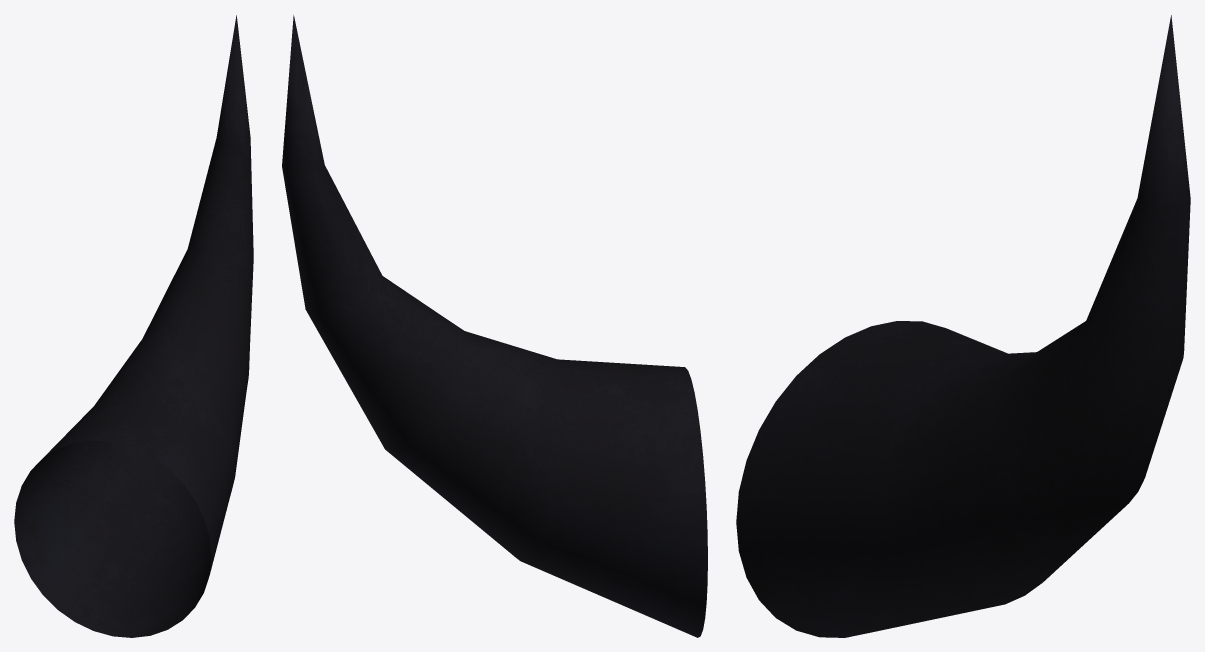
The model's file is newpinballdesign1.fbx.
The picture shows the model from 3 angles, left to right: view 1: azimuth 30°, elevation 25°; view 2: azimuth 150°, elevation 25°; view 3: azimuth 270°, elevation 25°; orthographic projection. The views are drawn at different scales.
Parts seen in each view (by area): view 1: newpinballdesign1; view 2: newpinballdesign1; view 3: newpinballdesign1.
Boxes of the visible parts, x1,y1,x2,y2 form: newpinballdesign1: (14, 15, 253, 637); newpinballdesign1: (282, 15, 707, 637); newpinballdesign1: (736, 15, 1190, 637).
Bounding box in the file's own units: 31.02 × 52.09 × 27.27.
